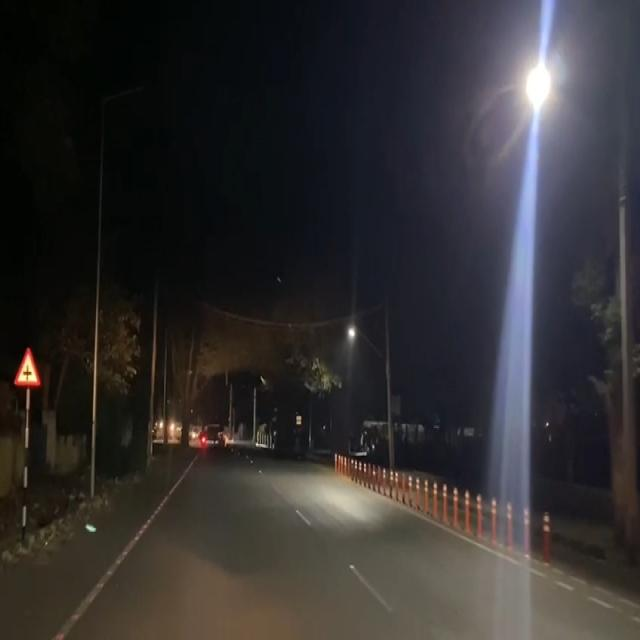bien_cam: (14, 345, 41, 388)
